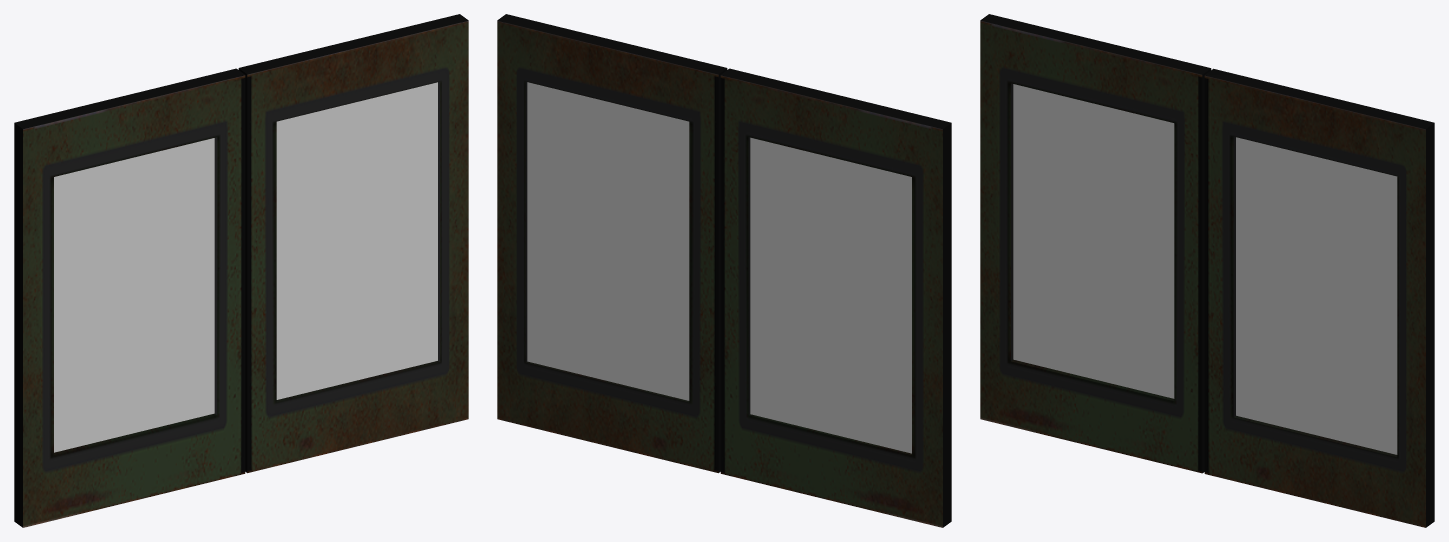
The model's file is Doors.fbx.
3 renders of one model, left to right at view 1: azimuth 30°, elevation 25°; view 2: azimuth 150°, elevation 25°; view 3: azimuth 330°, elevation 25°, orthographic.
Visible parts, largest first — view 1: LDoor.002, RDoor.002; view 2: LDoor.002, RDoor.002; view 3: RDoor.002, LDoor.002.
Part boxes in pixels (box(x1,y1,x2,y2)): LDoor.002: box(14, 68, 245, 527); RDoor.002: box(238, 14, 468, 473); LDoor.002: box(720, 68, 951, 527); RDoor.002: box(497, 14, 727, 473); RDoor.002: box(1204, 68, 1434, 527); LDoor.002: box(980, 14, 1211, 473).
Size of the model in its own units: 1423 by 1217 by 49.26.
